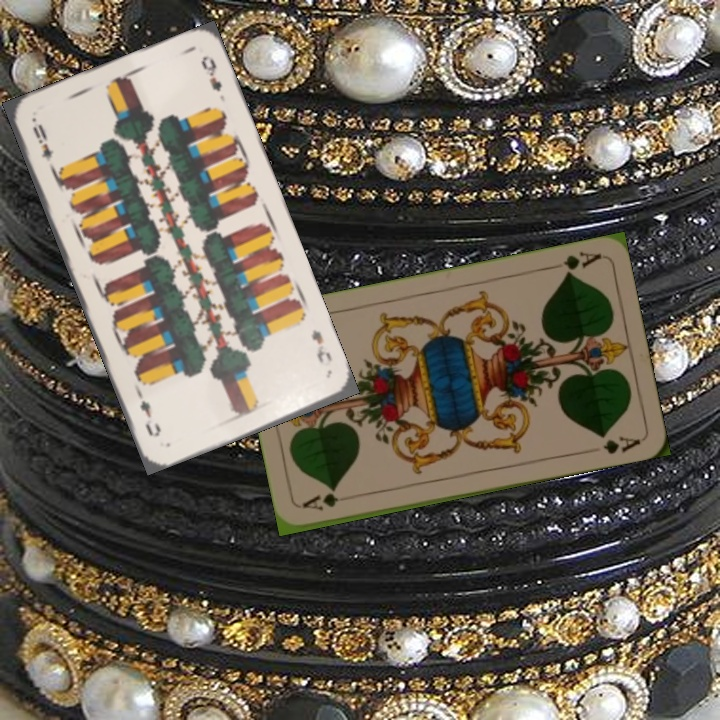E9: (28, 120, 56, 164), (307, 326, 335, 366)
GA: (545, 247, 603, 278), (298, 489, 357, 513)
